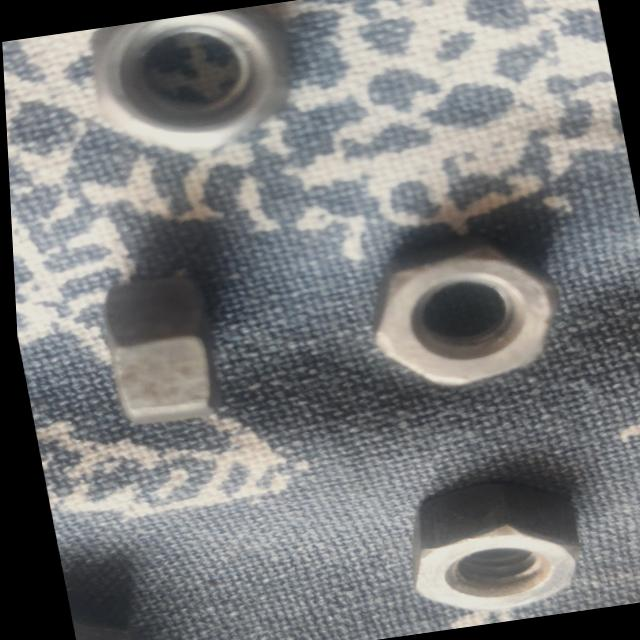disinfected nut: (91, 8, 287, 153), (370, 243, 552, 386), (405, 483, 573, 611), (100, 276, 210, 425), (65, 621, 122, 640)
